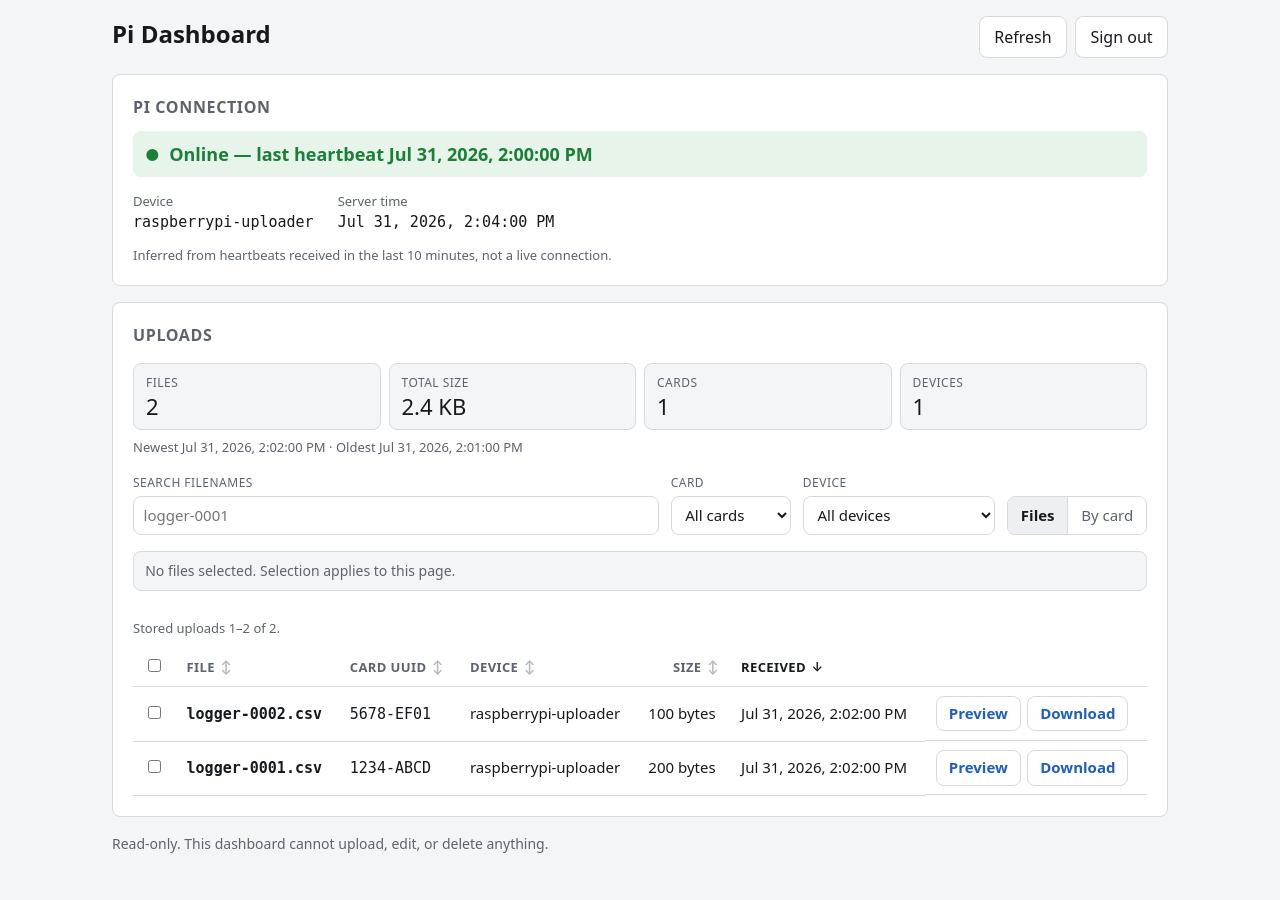
Test: bulk selection › shows the selected size and clears the selection on request
Click the checkbox named "Select logger-0001.csv".
click(155, 767)  # box [148,760,161,774]
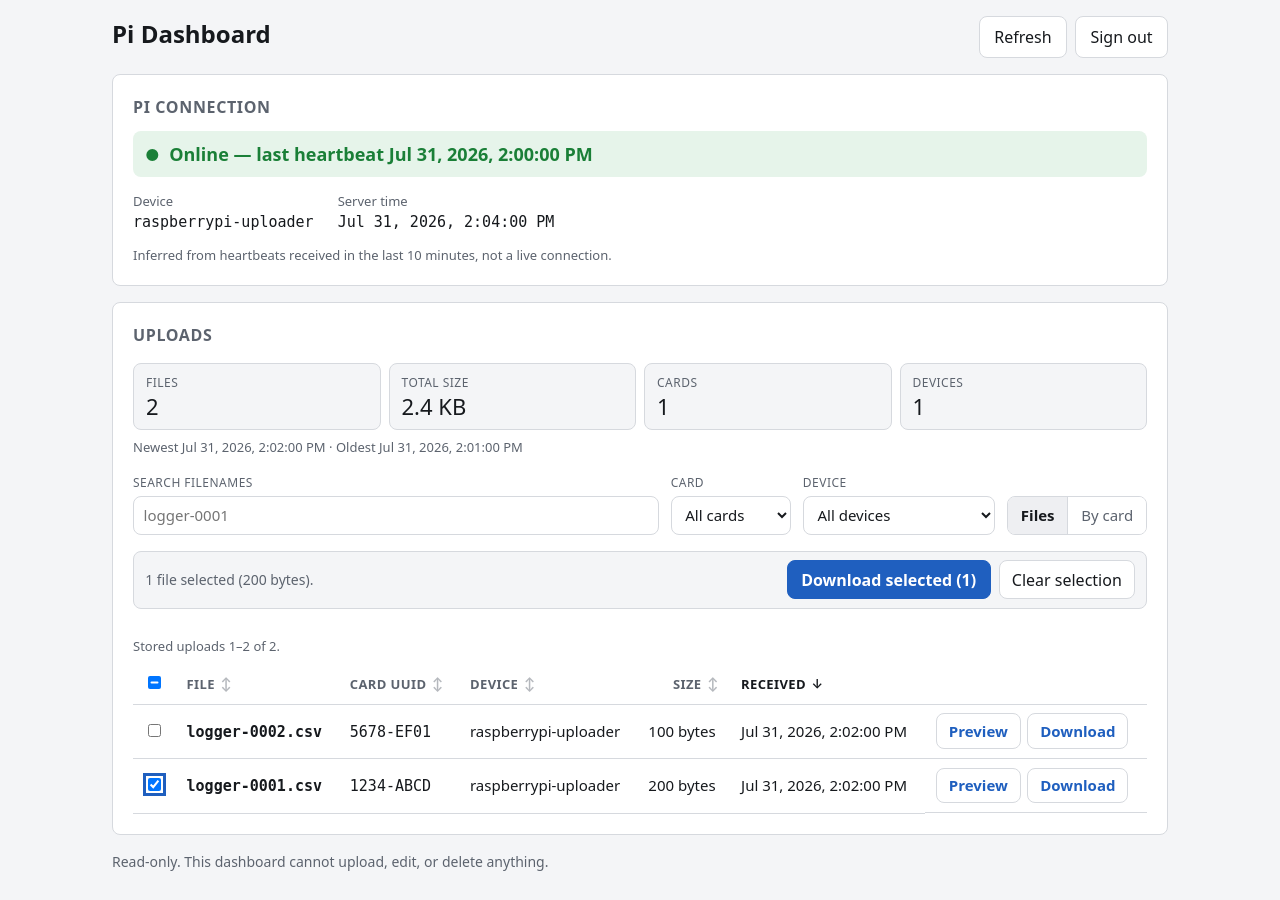
Result: the text "1 file selected (200 bytes)." is shown at [145,569,313,590]
Click the button "Clear selection".
click(1067, 580)  # box [999,560,1135,599]
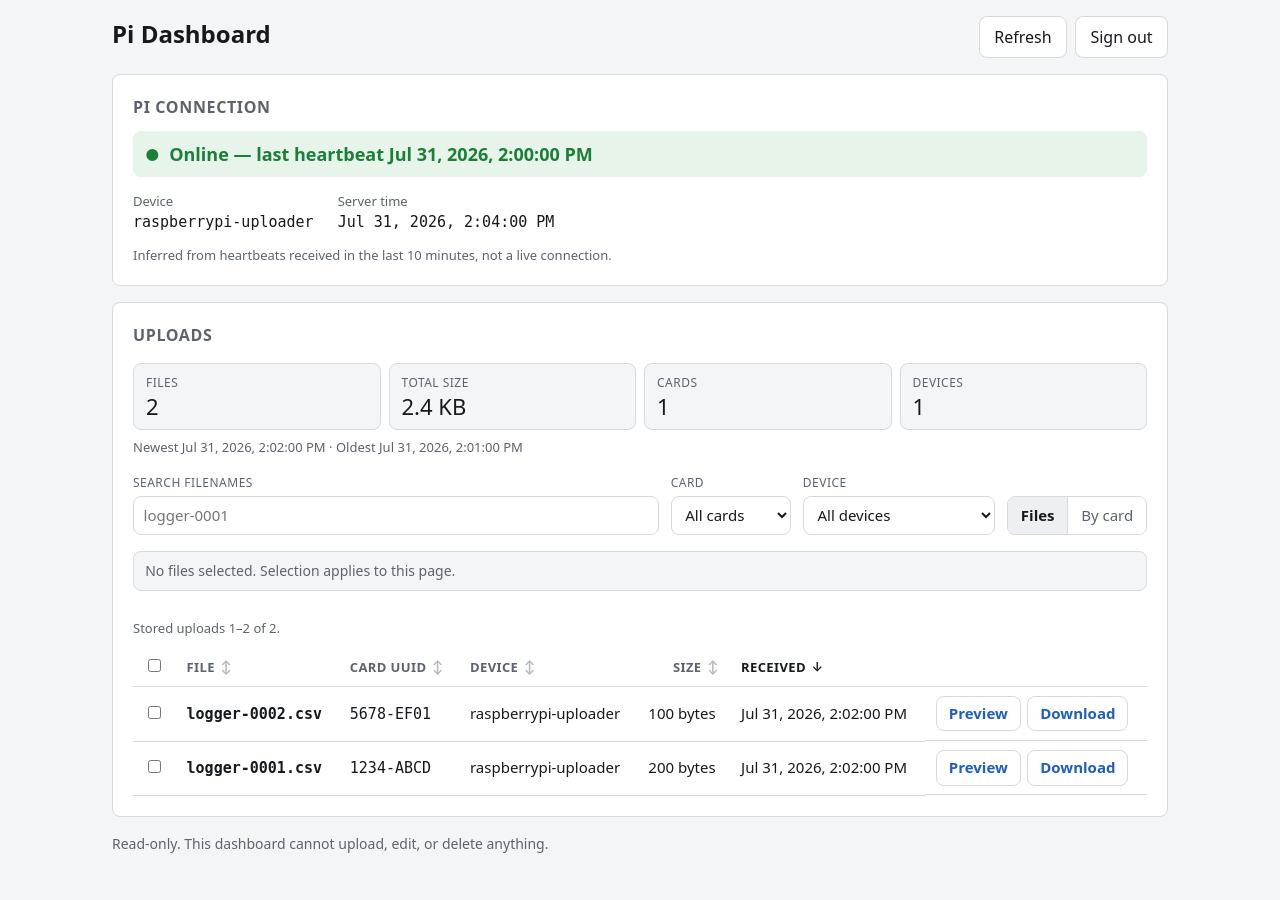
Result: the text "No files selected. Selection applies to this page." is shown at [145,560,455,581]
